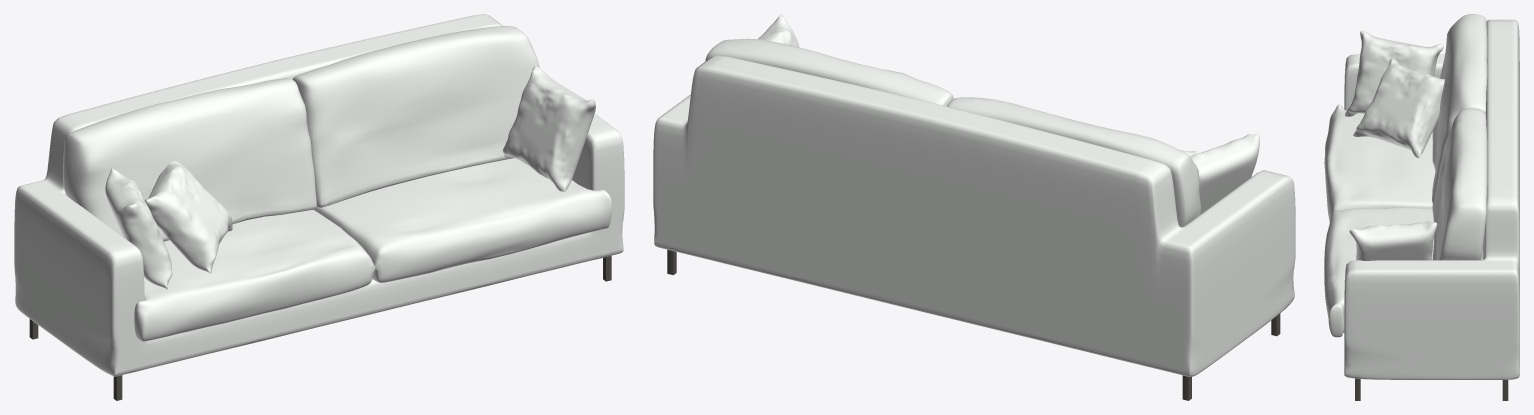
File: sofa_linen.glb
3 renders of one model, left to right at view 1: azimuth 30°, elevation 25°; view 2: azimuth 150°, elevation 25°; view 3: azimuth 270°, elevation 25°, orthographic. The views are drawn at different scales.
Visible parts, largest first — view 1: Sofa_0006, Sofa_0001, Sofa_0002, Sofa_0005, Sofa_0004, Sofa_0003, SofaLegs; view 2: Sofa_0001, Sofa_0006, Sofa_0003, Sofa_0005, SofaLegs; view 3: Sofa_0001, Sofa_0002, Sofa_0006, Sofa_0004, Sofa_0003, Sofa_0005, SofaLegs.
Boxes of the visible parts, x1,y1,x2,y2 form: Sofa_0006: [63, 26, 539, 241]; Sofa_0001: [14, 14, 624, 376]; Sofa_0002: [134, 158, 611, 341]; Sofa_0005: [503, 66, 595, 191]; Sofa_0004: [145, 161, 232, 273]; Sofa_0003: [105, 168, 172, 289]; SofaLegs: [29, 255, 611, 400]; Sofa_0001: [653, 55, 1295, 376]; Sofa_0006: [705, 38, 1200, 227]; Sofa_0003: [1190, 134, 1259, 213]; Sofa_0005: [758, 14, 798, 47]; SofaLegs: [667, 249, 1280, 400]; Sofa_0001: [1344, 19, 1519, 379]; Sofa_0002: [1324, 104, 1435, 337]; Sofa_0006: [1432, 14, 1487, 260]; Sofa_0004: [1353, 58, 1444, 157]; Sofa_0003: [1345, 30, 1443, 116]; Sofa_0005: [1349, 221, 1437, 260]; SofaLegs: [1355, 378, 1508, 400].
Size of the model in its own units: 1.99 by 0.8159 by 0.7487.
Materials: 1 (1 with a texture image).
